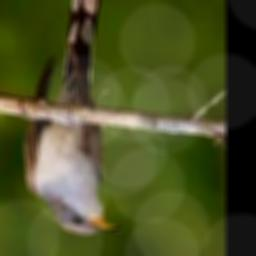Cuckoo: (26, 0, 125, 235)
